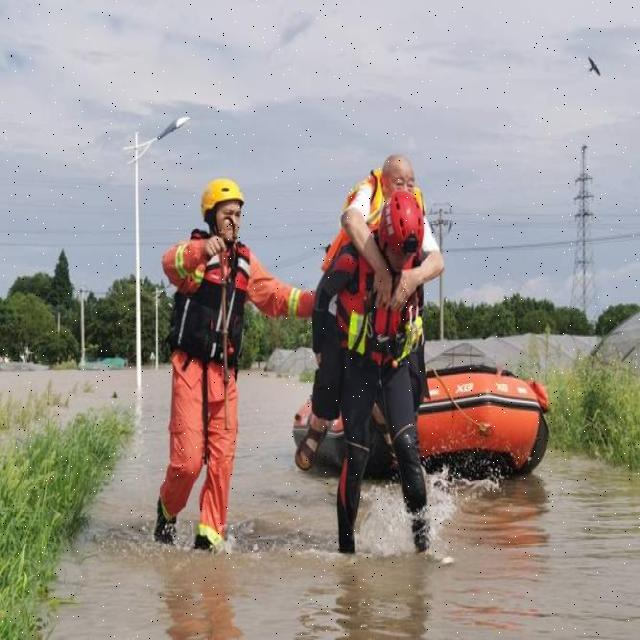rescuer: (161, 175, 261, 576), (337, 188, 442, 556)
